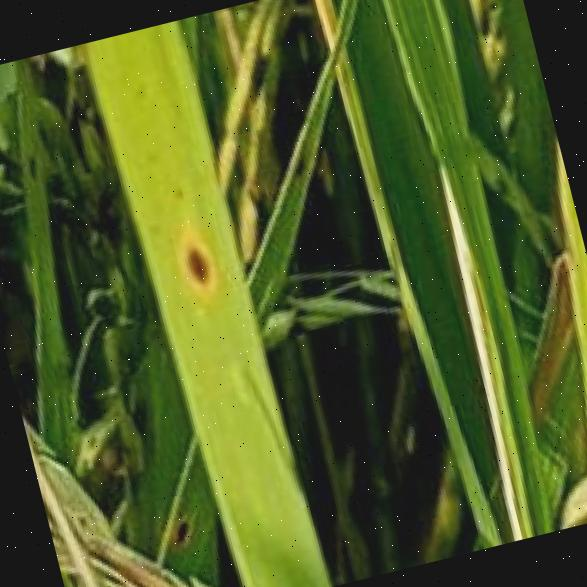Brown_Spot: (160, 210, 228, 306)
